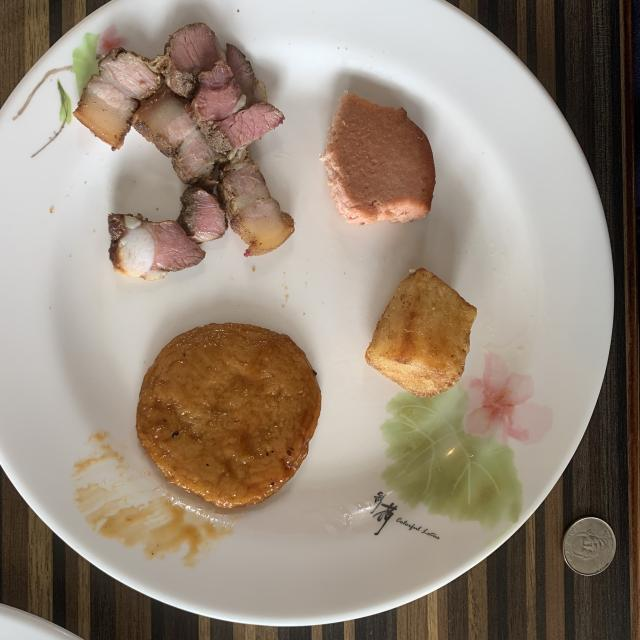Spam: (320, 91, 435, 224)
coin: (562, 518, 616, 576)
fish cake: (136, 324, 321, 508)
fried potato: (365, 269, 476, 398)
grilled pork: (75, 22, 294, 280)
